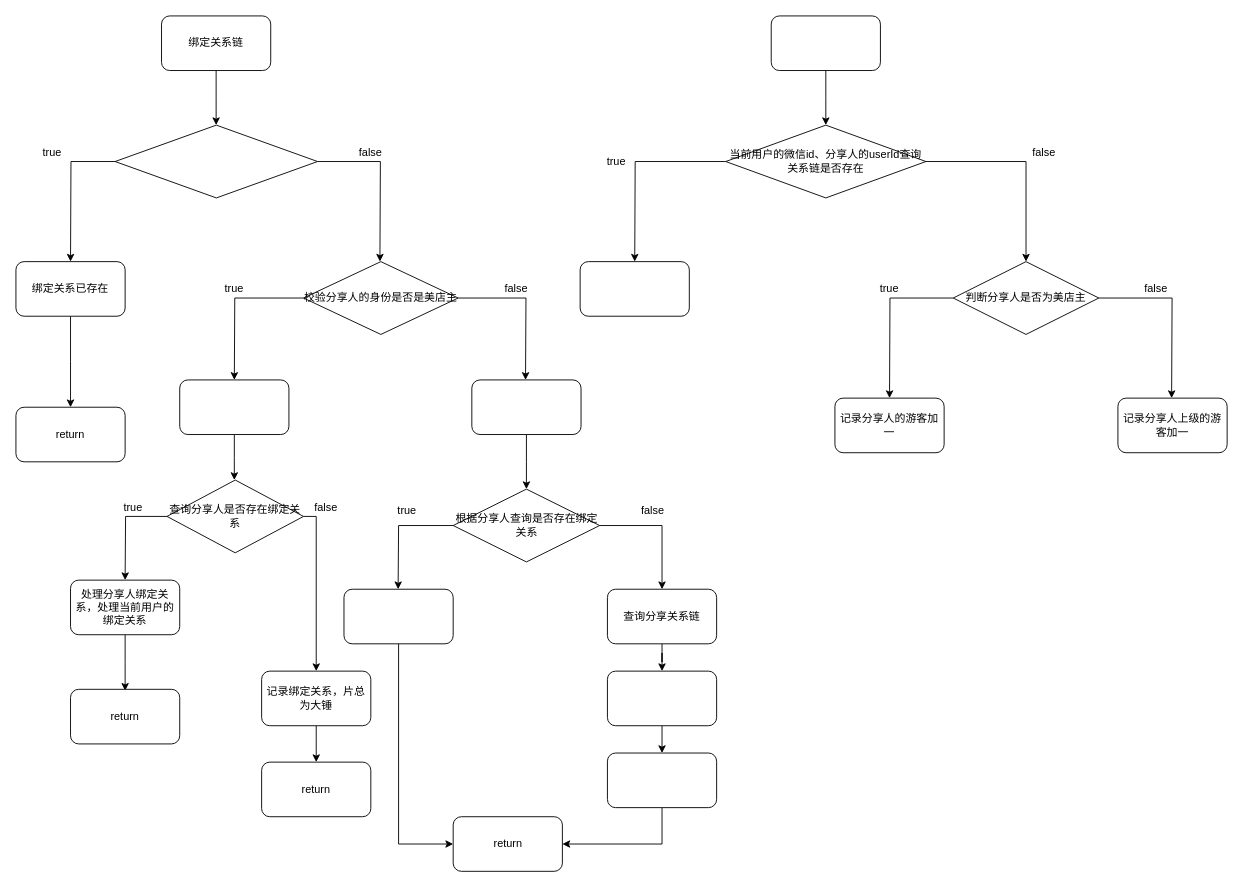
Image size: 1243x887. Some labels were removed from this diagram. The shapes that lost their labels are listed below. From the top down, each one's box as (x1, y1, x2, y2) in pixels, then its label:
(770, 15, 880, 71): 分享关系链
(114, 124, 318, 198): 当前用户、分享人的userId查询是否已经存在绑定关系
(579, 261, 689, 316): 更新为会员游客
(179, 379, 289, 435): 处理b2c的绑定关系
(471, 379, 581, 435): 处理c2c的分享
(343, 588, 453, 644): 处理绑定关系落库
(607, 670, 717, 726): 查出分享逻辑上级
(607, 752, 717, 808): 处理绑定关系链条
